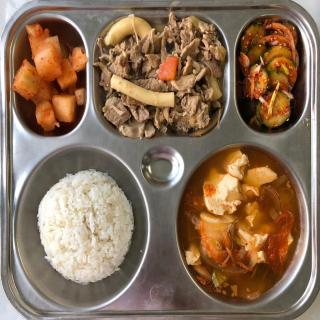Nasi: (33, 161, 137, 288)
